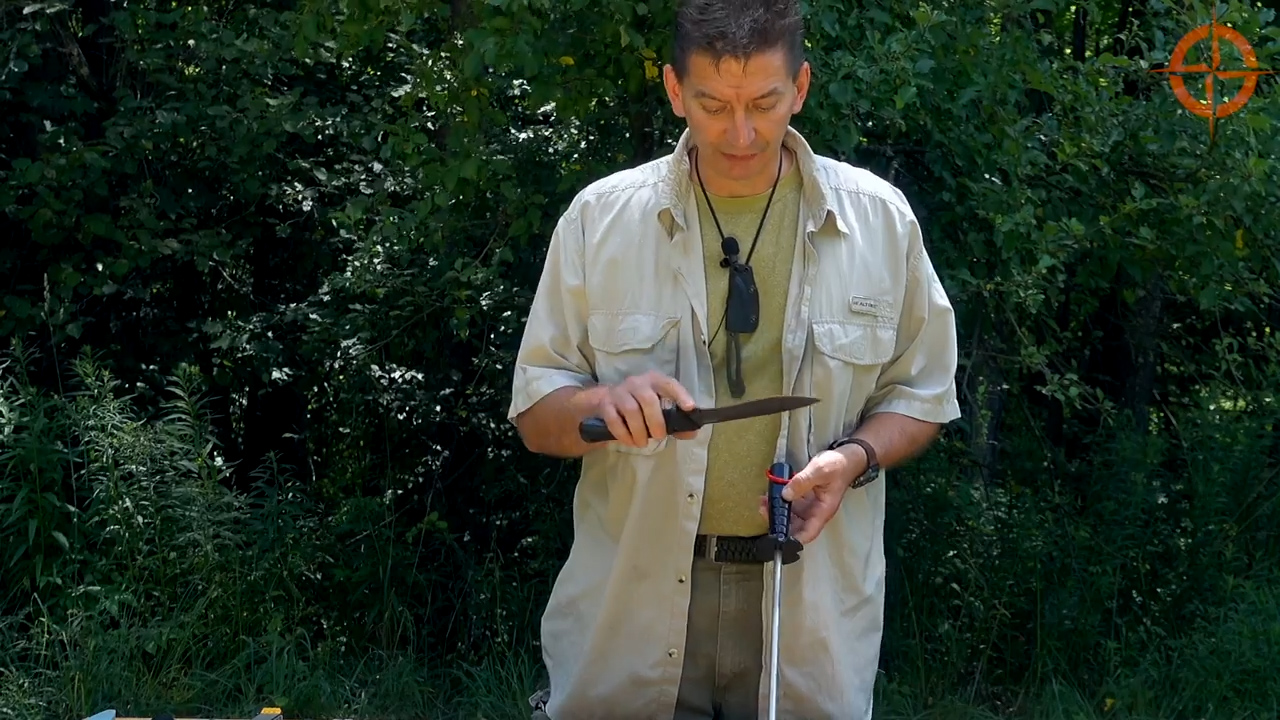knife: (576, 364, 829, 447)
